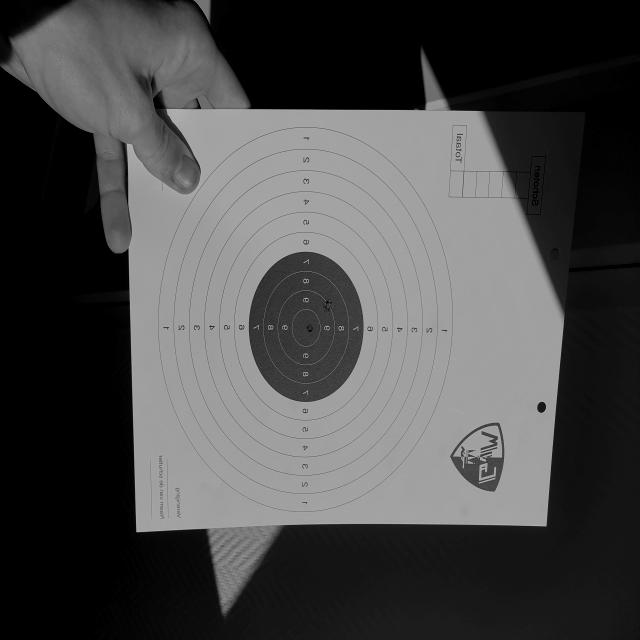10: (307, 322, 314, 332)
9: (323, 299, 333, 313)
Target: (157, 124, 455, 515)
black_contour: (248, 251, 364, 402)
